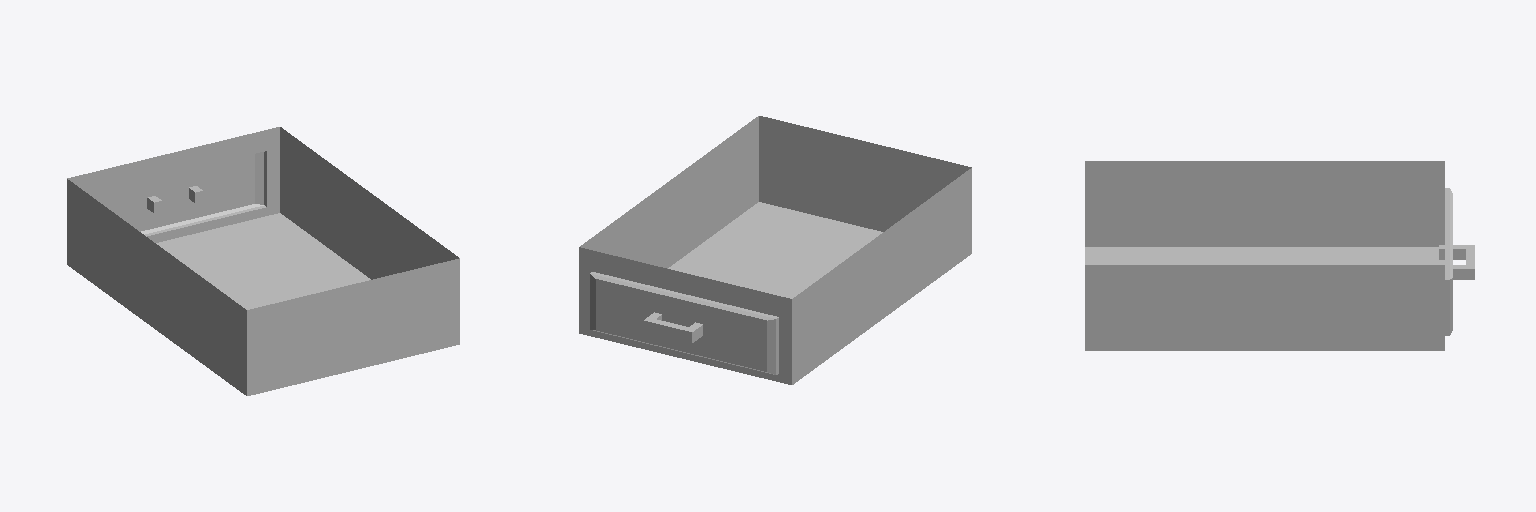
Rendered from desk_right_1.obj.
3 renders of one model, left to right at view 1: azimuth 30°, elevation 25°; view 2: azimuth 150°, elevation 25°; view 3: azimuth 270°, elevation 25°, orthographic.
Bounding box in the file's own units: 4.53 × 1.76 × 7.19.